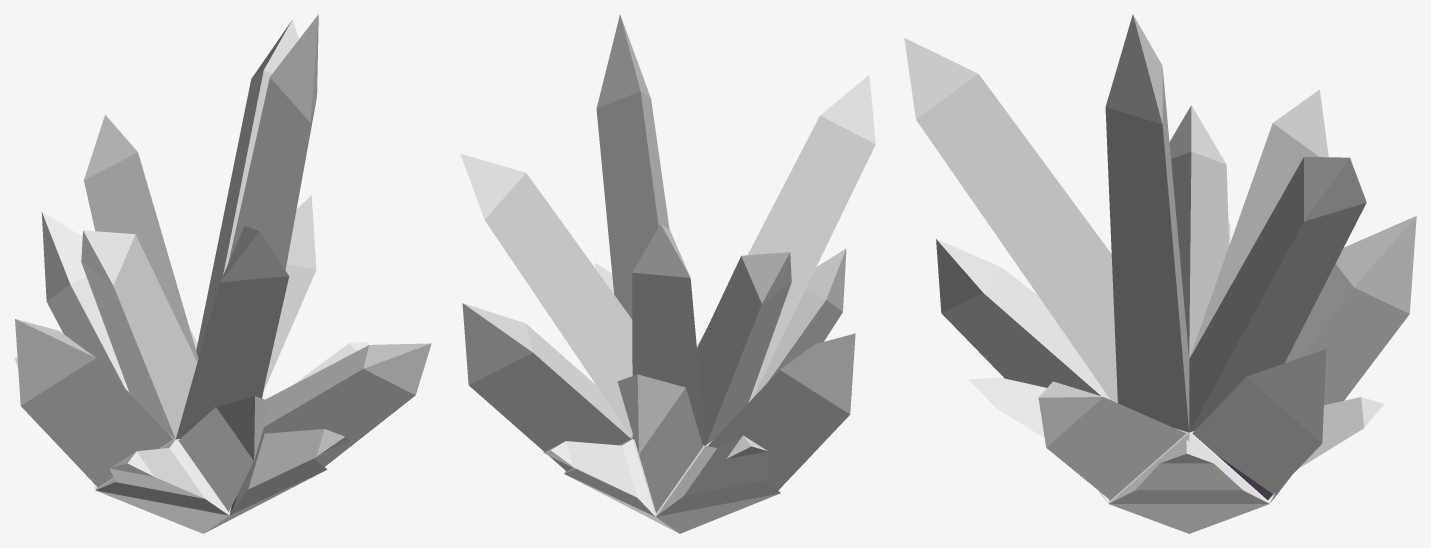
Rendered from resource__decoration__crystal__crystal-flower_4.fbx.
3 views of the same model, side by side, from view 1: azimuth 30°, elevation 25°; view 2: azimuth 150°, elevation 25°; view 3: azimuth 270°, elevation 25° (orthographic). The views are drawn at different scales.
Parts seen in each view (by area): view 1: Crystal_Flower_4; view 2: Crystal_Flower_4; view 3: Crystal_Flower_4.
Part boxes in pixels (x1=…): Crystal_Flower_4: x1=14, y1=14, x2=431, y2=533; Crystal_Flower_4: x1=460, y1=14, x2=875, y2=533; Crystal_Flower_4: x1=904, y1=14, x2=1416, y2=533.
Size of the model in its own units: 546 by 750 by 613.
